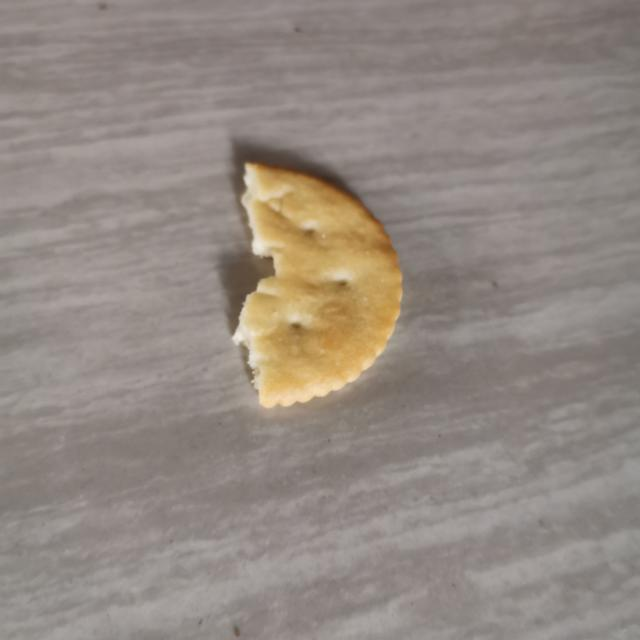Broken: (231, 160, 403, 409)
